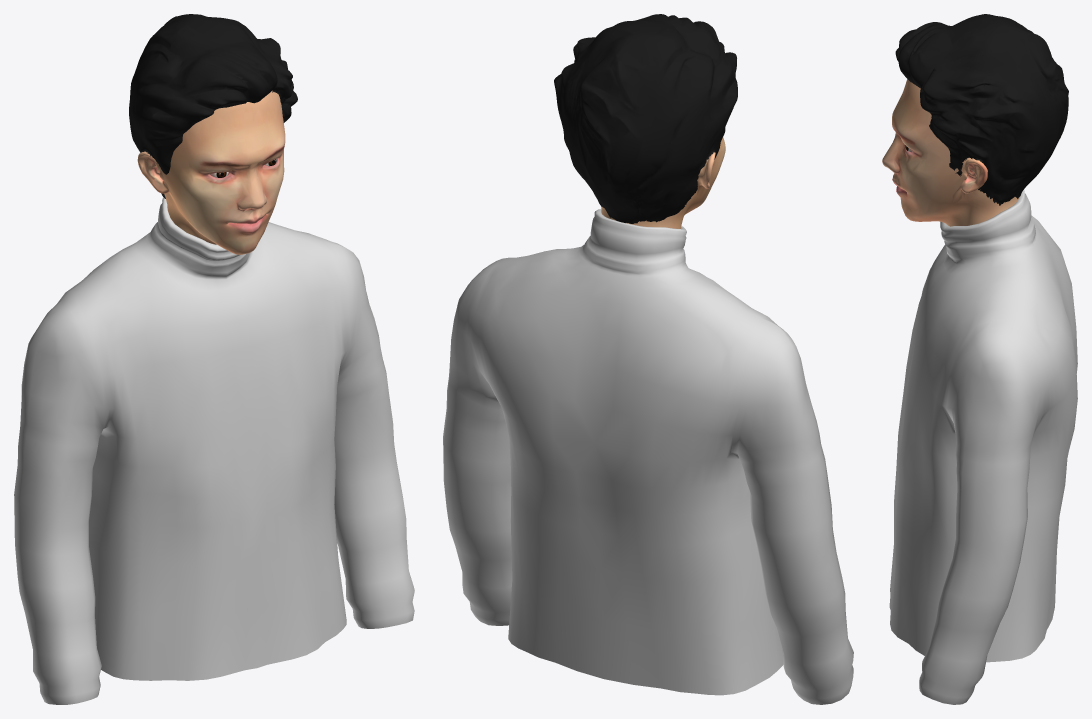
The model's file is rakha.glb.
3 renders of one model, left to right at view 1: azimuth 30°, elevation 25°; view 2: azimuth 150°, elevation 25°; view 3: azimuth 270°, elevation 25°, orthographic. The views are drawn at different scales.
Parts seen in each view (by area): view 1: innershirt, head; view 2: innershirt, head; view 3: innershirt, head.
Boxes of the visible parts, x1=… form: innershirt: x1=14, y1=197, x2=414, y2=704; head: x1=129, y1=14, x2=297, y2=254; innershirt: x1=443, y1=209, x2=853, y2=704; head: x1=554, y1=14, x2=737, y2=228; innershirt: x1=889, y1=189, x2=1077, y2=704; head: x1=882, y1=14, x2=1068, y2=226.
Size of the model in its own units: 2.13 by 3.4 by 1.
Materials: 4 (2 with a texture image).
